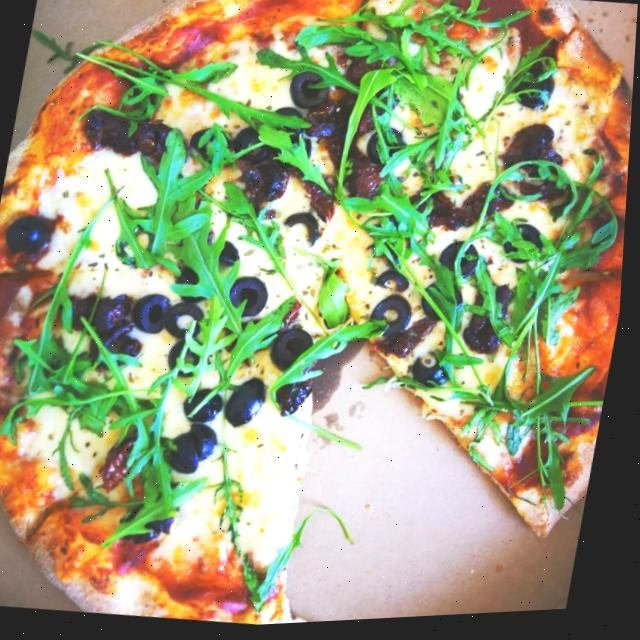black_olives: (500, 123, 576, 182), (507, 157, 576, 213), (236, 148, 298, 210), (265, 103, 323, 163), (225, 374, 276, 436), (295, 95, 351, 150), (121, 503, 183, 552), (283, 66, 337, 119), (91, 329, 149, 377), (434, 237, 489, 287), (271, 325, 321, 379), (509, 66, 559, 120), (4, 209, 55, 260), (369, 296, 419, 346), (464, 311, 513, 362), (76, 105, 123, 158), (225, 275, 275, 324), (273, 377, 321, 428), (228, 120, 277, 169), (165, 430, 213, 479), (423, 282, 471, 330), (128, 123, 182, 165), (361, 123, 409, 170), (171, 261, 217, 310), (182, 387, 234, 430), (99, 115, 147, 161), (504, 224, 550, 272), (414, 348, 459, 397), (166, 338, 214, 383), (165, 298, 211, 344), (64, 290, 109, 337), (280, 209, 328, 252), (134, 292, 177, 339), (188, 124, 236, 165), (97, 291, 137, 339), (185, 421, 225, 465), (476, 281, 519, 319), (374, 267, 423, 300), (210, 238, 247, 275)
pizza: (0, 0, 640, 640)
